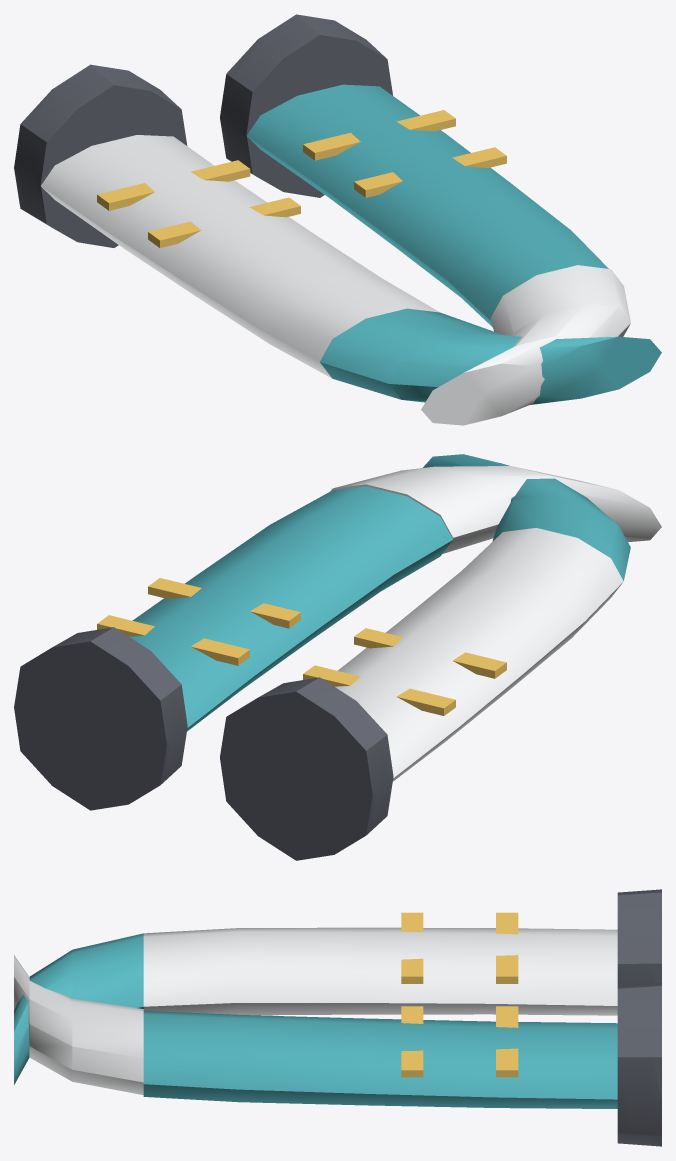
Rendered from snowboard-gear-and-freestyle-riders-socks-pair-9c7a6b66__27166.glb.
3 renders of one model, top to bottom at view 1: azimuth 30°, elevation 25°; view 2: azimuth 150°, elevation 25°; view 3: azimuth 270°, elevation 25°, orthographic. The views are drawn at different scales.
Visible parts, largest first — view 1: socks-pair; view 2: socks-pair; view 3: socks-pair.
Part boxes in pixels (x1,y1,x2,y2): socks-pair: (14,14,661,425); socks-pair: (14,454,661,860); socks-pair: (14,889,661,1146).
Size of the model in its own units: 0.244 by 0.11 by 0.4101.
